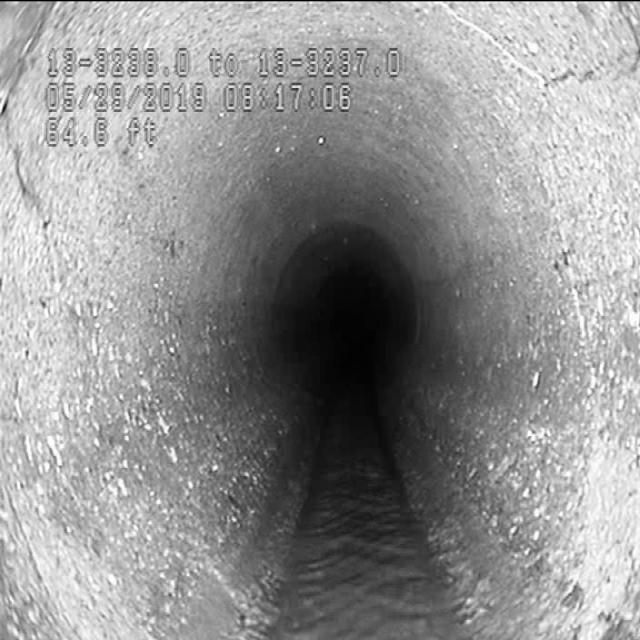Crack: (501, 23, 637, 115)
